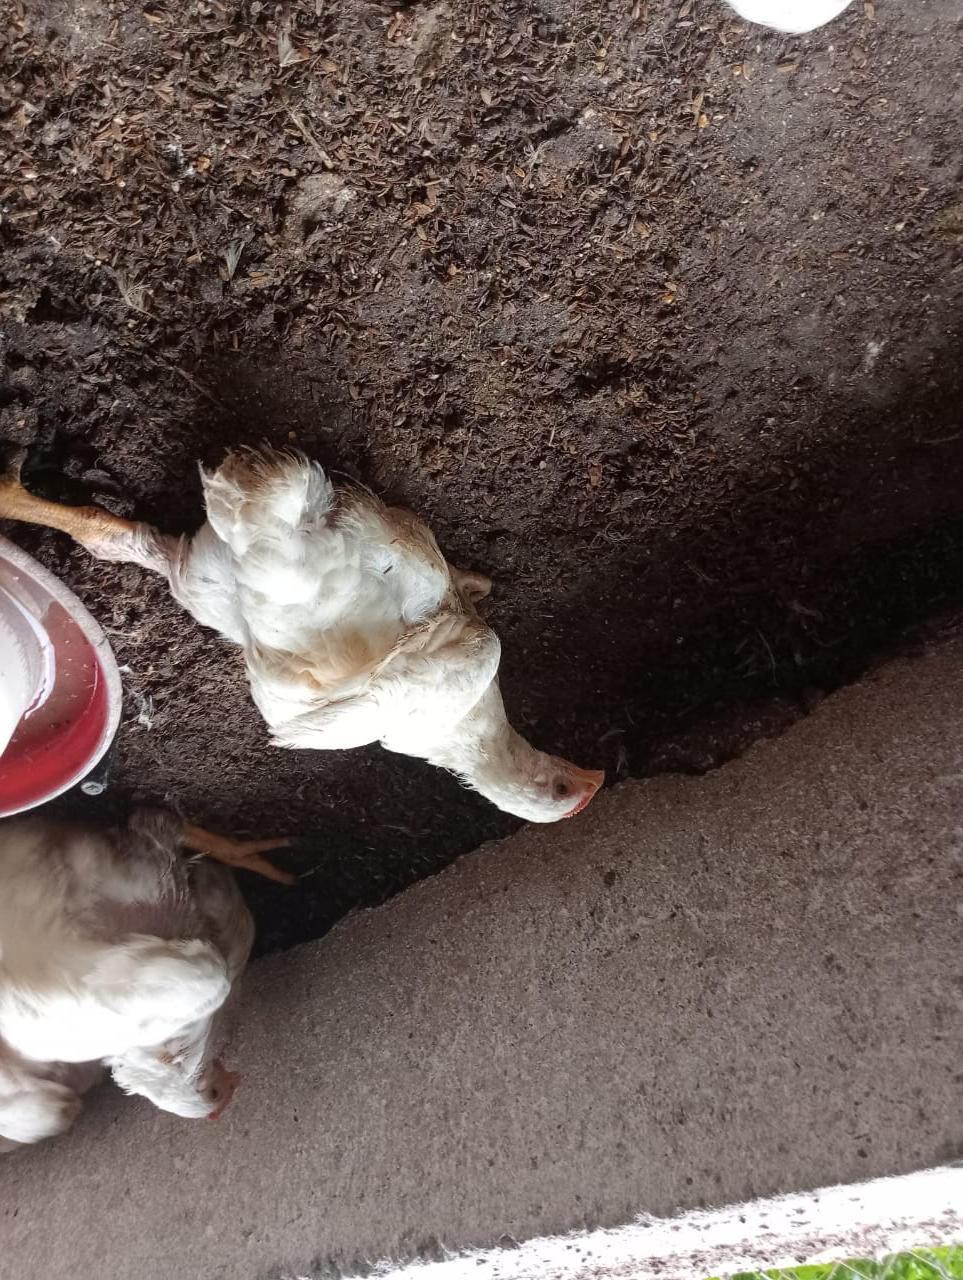Unhealthy: (20, 341, 697, 918)
